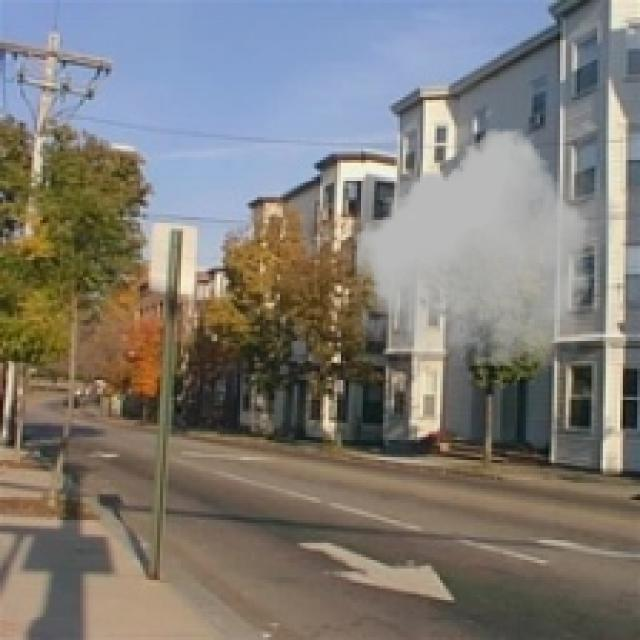smoke: (348, 128, 623, 366)
